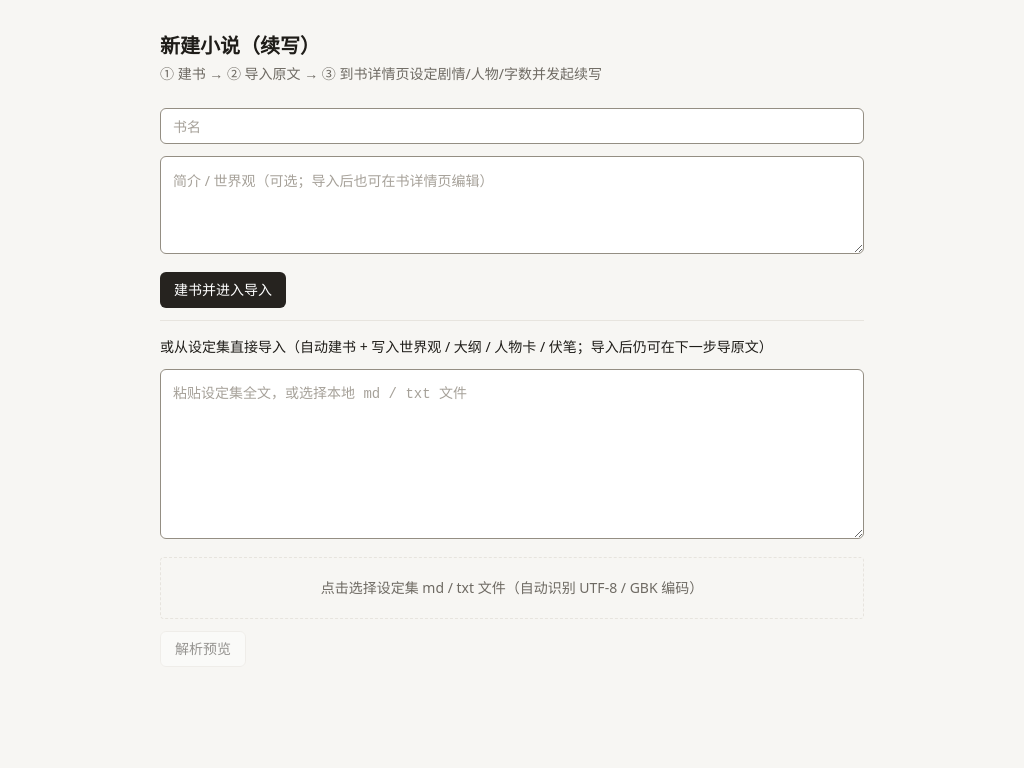
Test: NewBookPage › 设定集直接导入建书 → 流入步骤②导入原文（DEC-2026-1120-04）
Expected: the text "或从设定集直接导入（自动建书 + 写入世界观 / 大纲 / 人物卡 / 伏笔；导入后仍可在下一步导原文）" is shown, [160, 337, 864, 357]
In the text box labelled "设定集全文": (512, 454) [160, 369, 864, 539], type "# 《导入书》设定集"
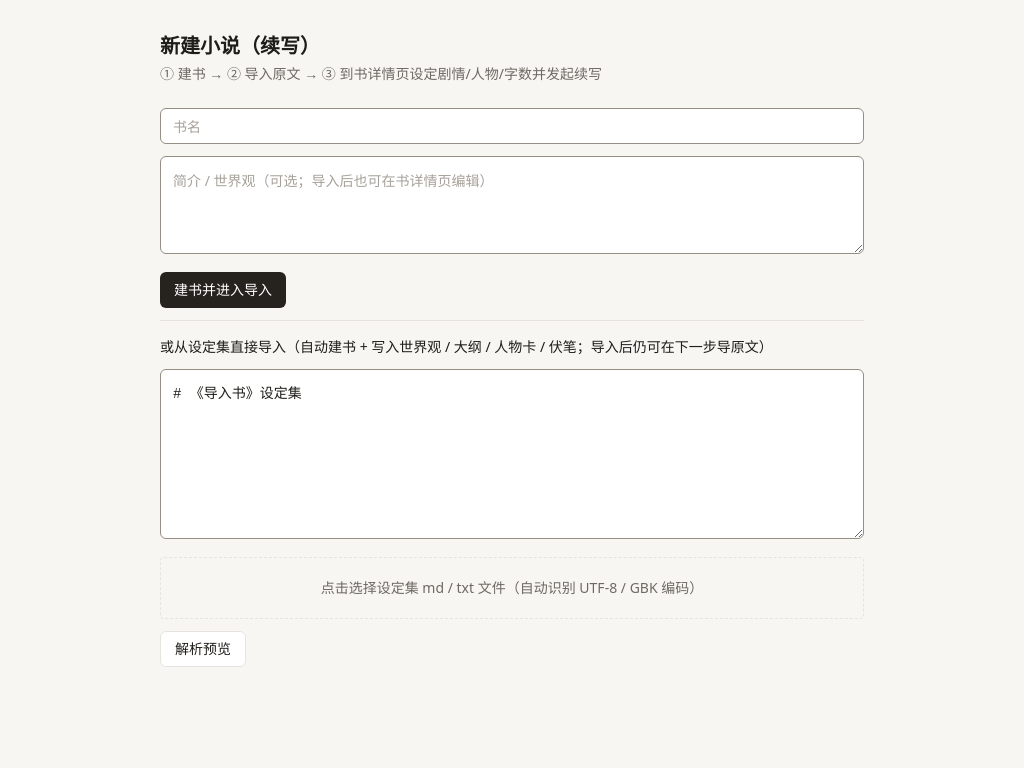
Click the button "解析预览": (203, 649) [160, 631, 246, 667]
(page scrolled)
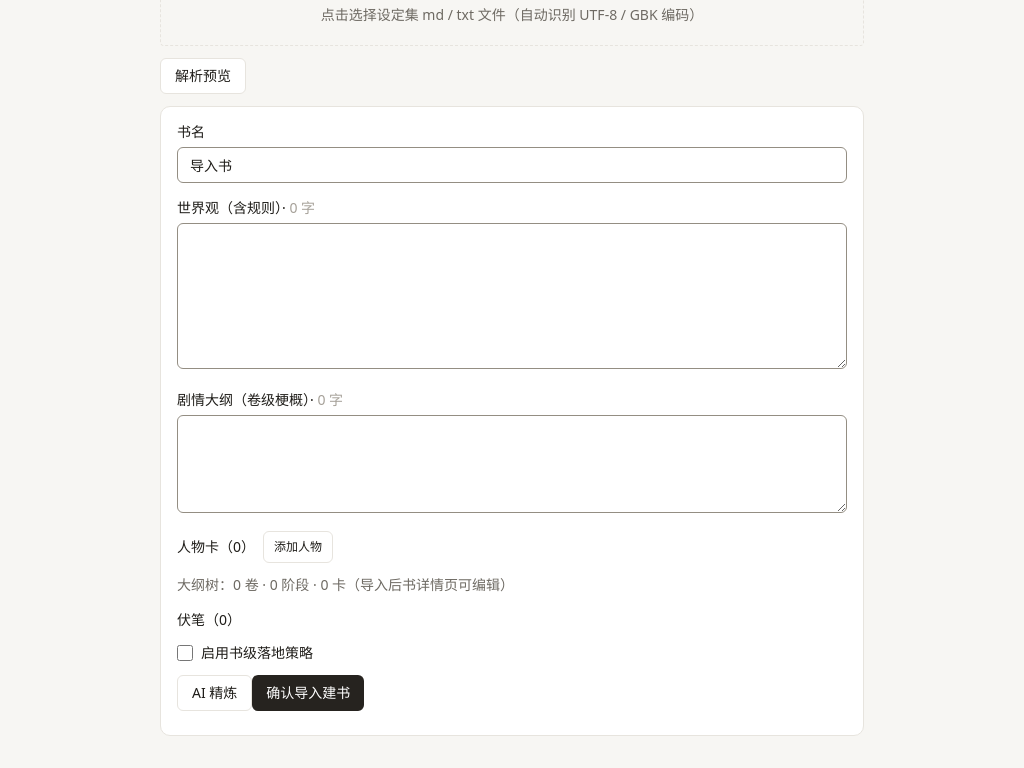
Result: the button "确认导入建书" is shown
Click the button "确认导入建书": (308, 693) [252, 675, 364, 711]
(page scrolled)
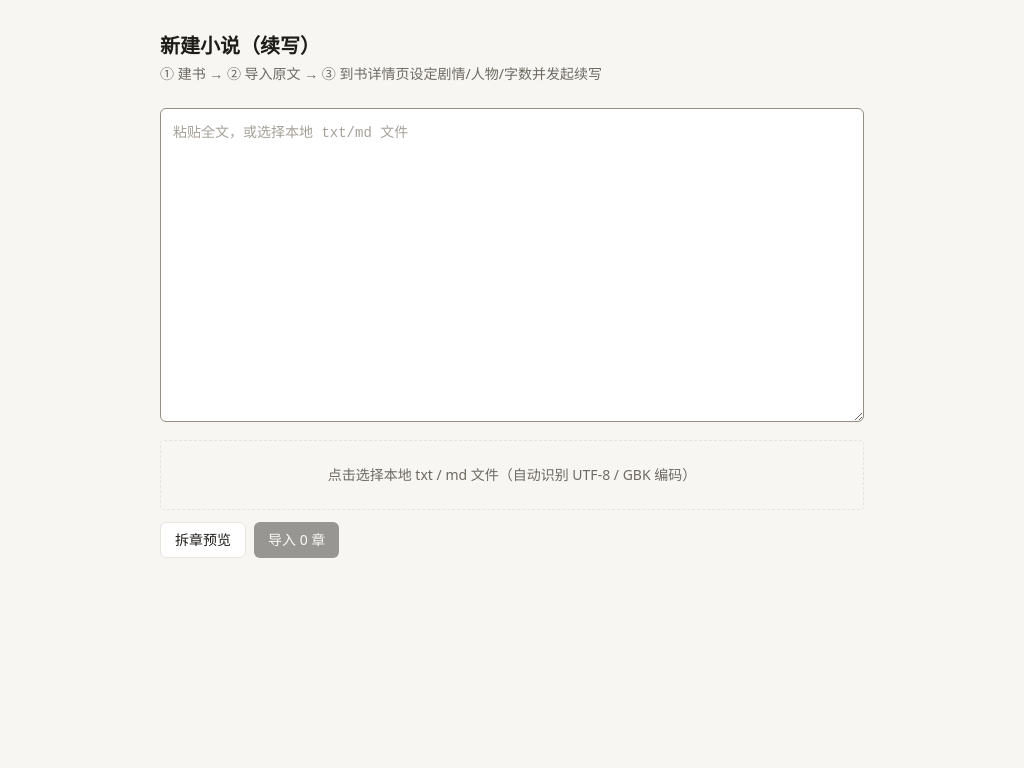
Result: the text box with placeholder "粘贴全文，或选择本地 txt/md 文件" is shown at [160, 108, 864, 422]
